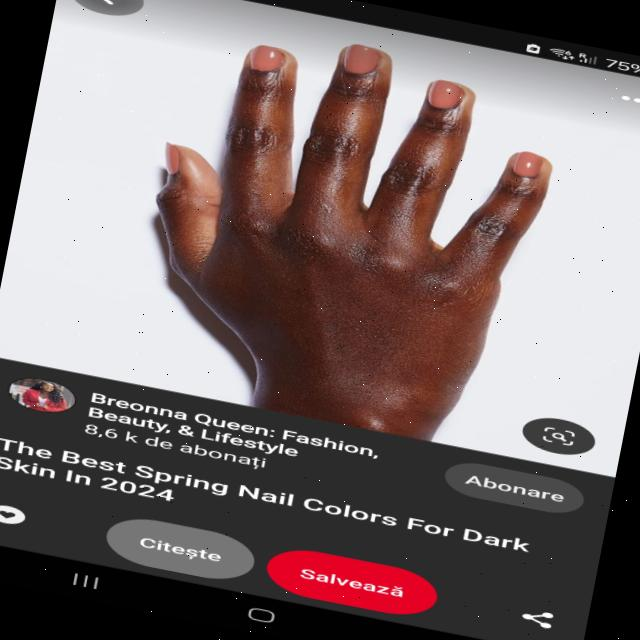hands: (104, 0, 590, 441)
